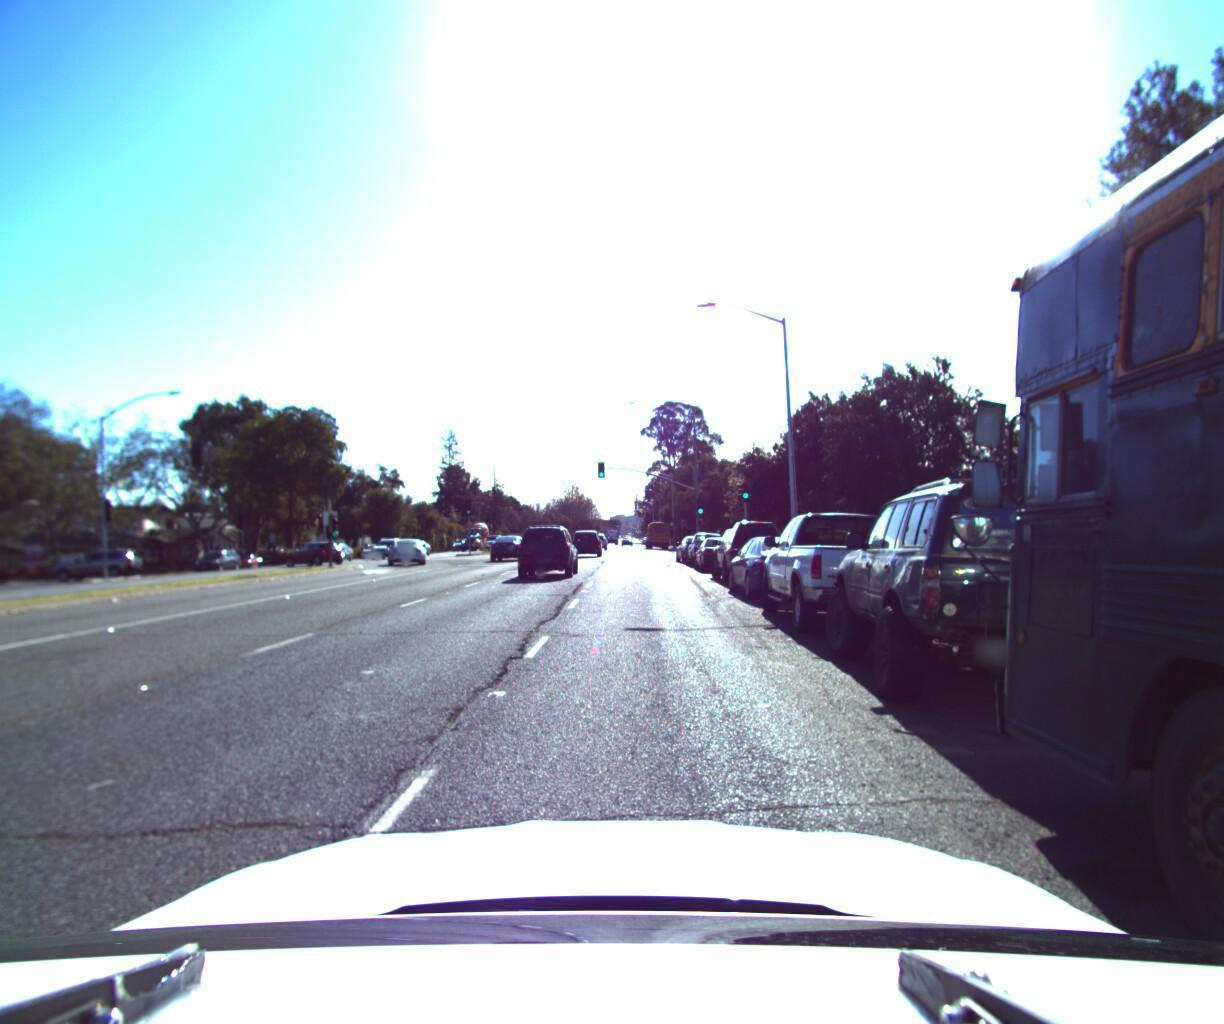car: (820, 449, 1174, 723), (753, 492, 953, 635), (723, 526, 842, 600), (712, 513, 792, 580), (512, 517, 583, 575), (47, 541, 146, 577), (276, 537, 346, 566), (696, 529, 749, 567), (687, 525, 737, 563), (481, 525, 534, 559), (383, 531, 428, 566), (197, 545, 248, 573), (566, 529, 606, 557), (0, 533, 7, 690), (227, 550, 269, 570)
